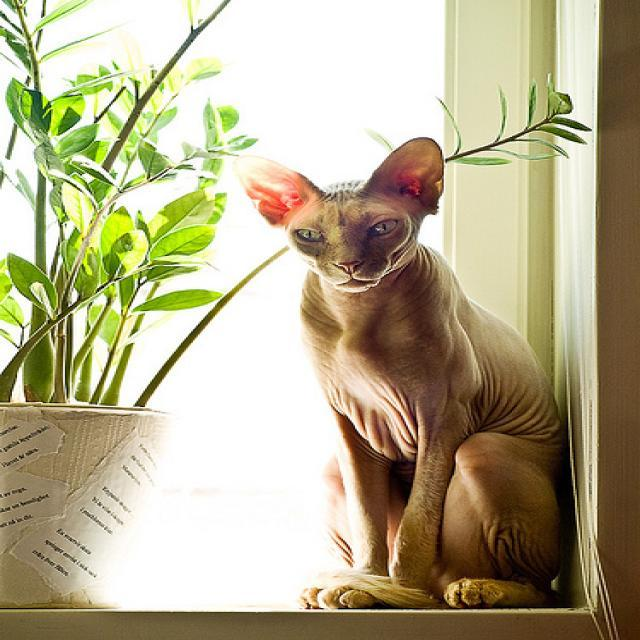Sphynx: (234, 136, 440, 289)
